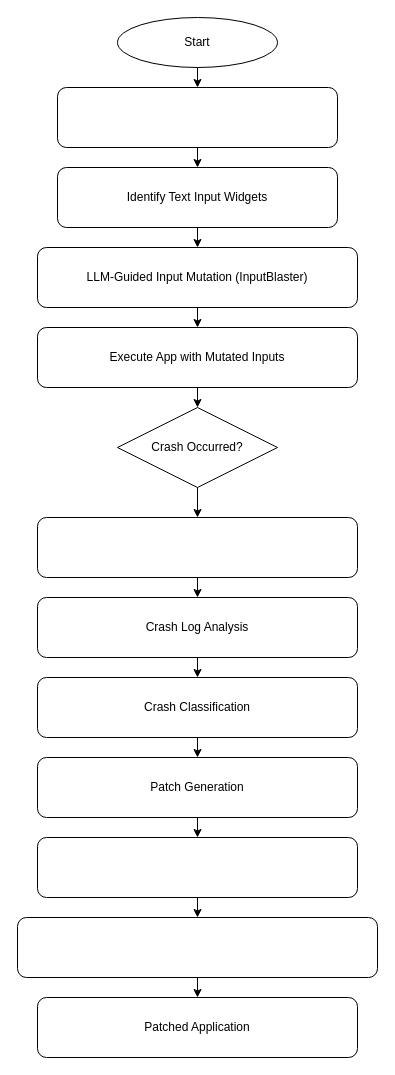
Image size: 395x1075. Some labels were removed from this diagram. Here are the shapes that lost their labels. From the top down, the box of each, then its label:
(56, 86, 338, 148): Android Application Under Test
(36, 516, 358, 578): Capture Crash Log
(36, 836, 358, 898): Apply Patch
(16, 916, 378, 978): Fuzzer-Guided Patch Validation
